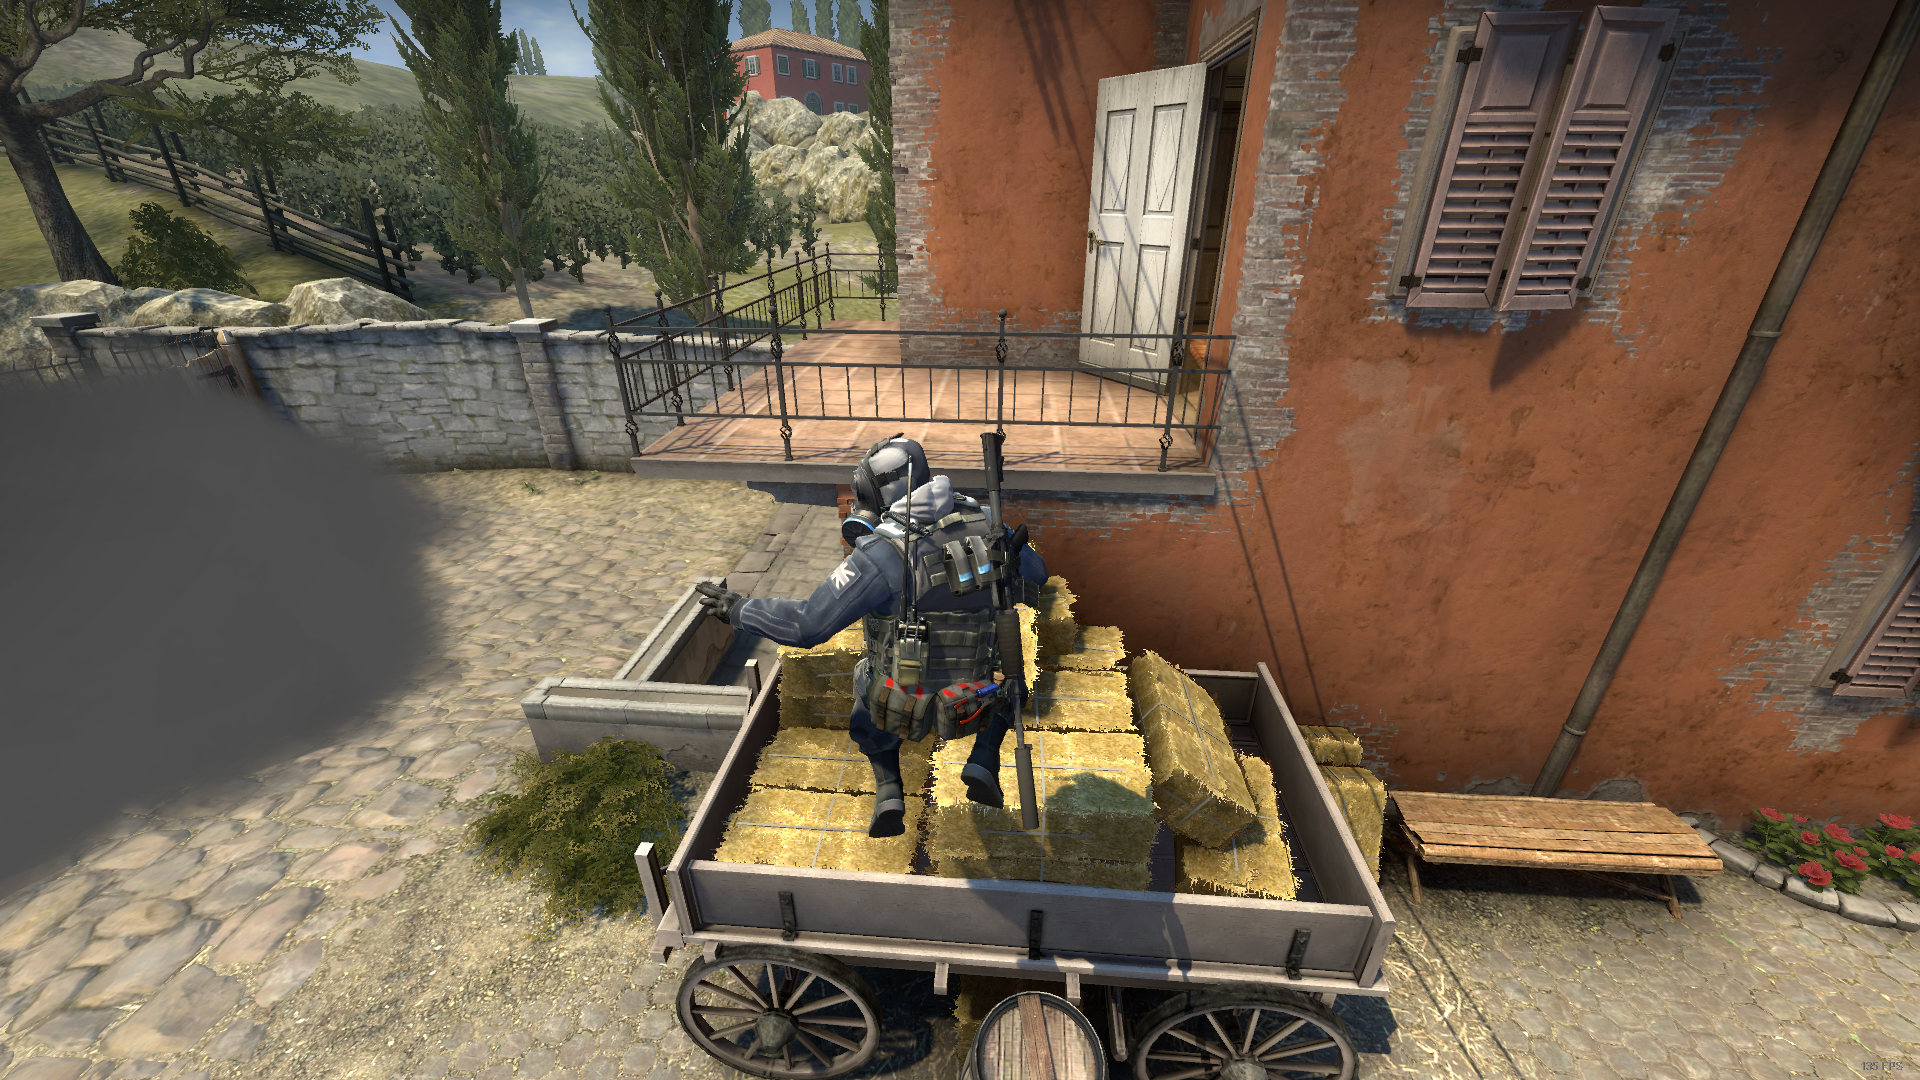ct: (694, 433, 1050, 836)
